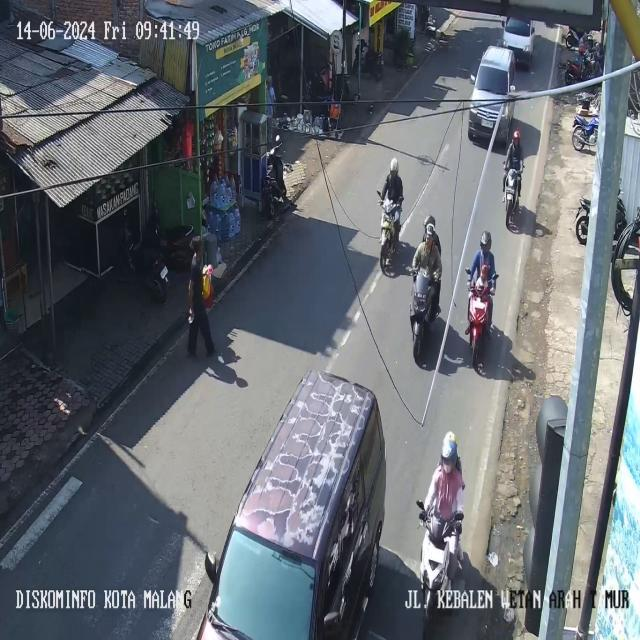Helmet: (441, 432, 457, 464), (480, 231, 491, 250), (480, 264, 489, 281), (424, 215, 435, 227), (390, 157, 398, 173), (425, 223, 434, 237), (512, 130, 521, 142)
Number Plate: (481, 119, 493, 127), (160, 266, 167, 278)
Rearview Mirror: (205, 553, 217, 584), (323, 611, 339, 628), (416, 500, 424, 510), (454, 512, 463, 520), (275, 134, 281, 143), (376, 190, 382, 199), (470, 74, 475, 82), (510, 85, 515, 91), (465, 268, 470, 274), (501, 20, 505, 26), (494, 274, 498, 279)
